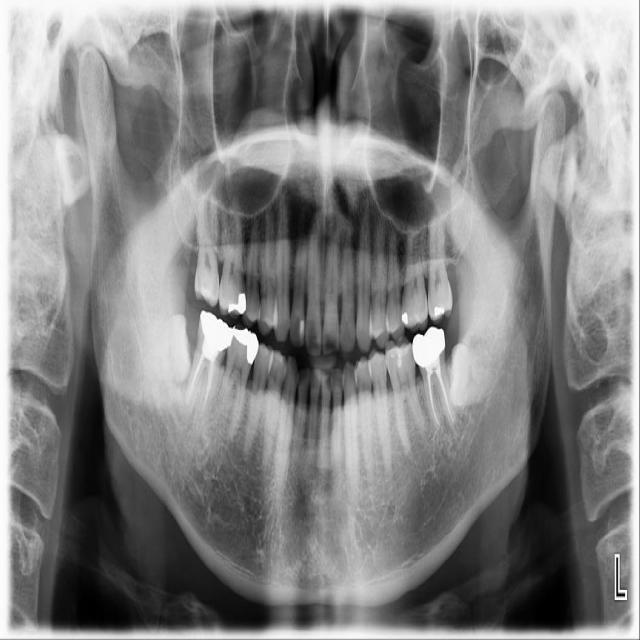Crown: (196, 308, 230, 360), (411, 326, 446, 372)
Filling: (232, 328, 261, 363), (289, 300, 306, 349), (388, 342, 411, 369), (227, 290, 248, 313), (430, 303, 446, 320), (399, 310, 412, 327)
Root Canal Treatment: (433, 365, 456, 420), (427, 369, 441, 431), (203, 363, 216, 412), (188, 358, 202, 401)
impacted tooth: (449, 343, 503, 407), (143, 314, 192, 382)
